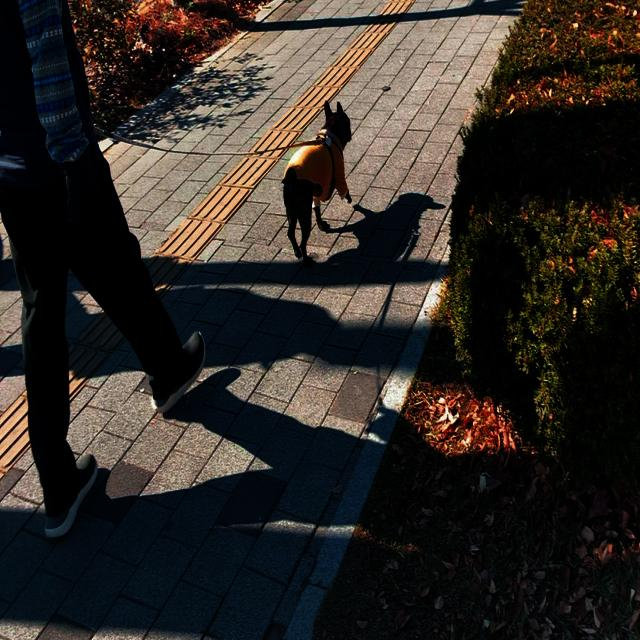Leashed_Dog: (53, 62, 352, 266)
